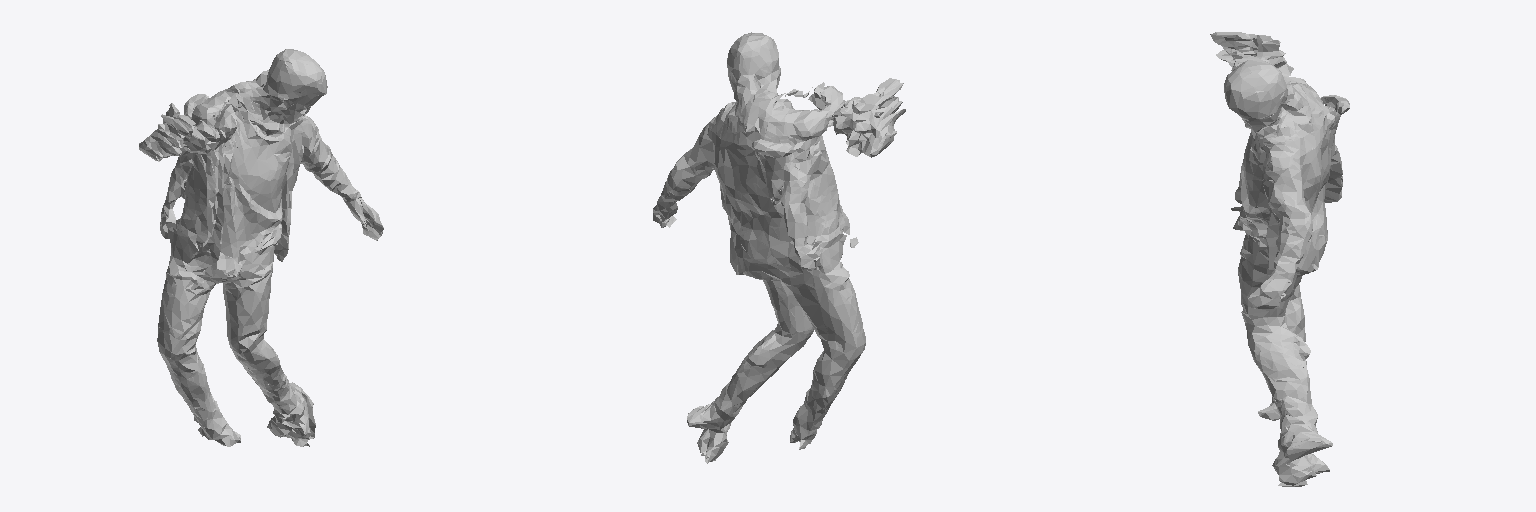
Rendered from patricia_jump_remesh.obj.
3 views of the same model, side by side, from view 1: azimuth 30°, elevation 25°; view 2: azimuth 150°, elevation 25°; view 3: azimuth 270°, elevation 25° (orthographic).
Size of the model in its own units: 1.13 by 1.91 by 0.5928.